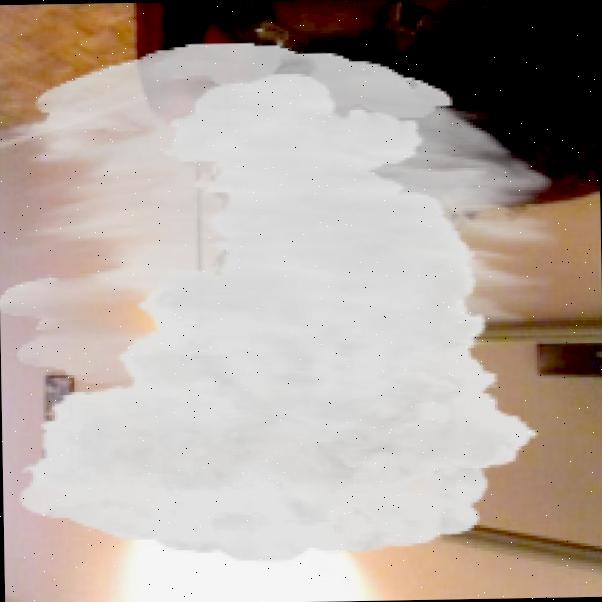smoke: (0, 38, 564, 567)
